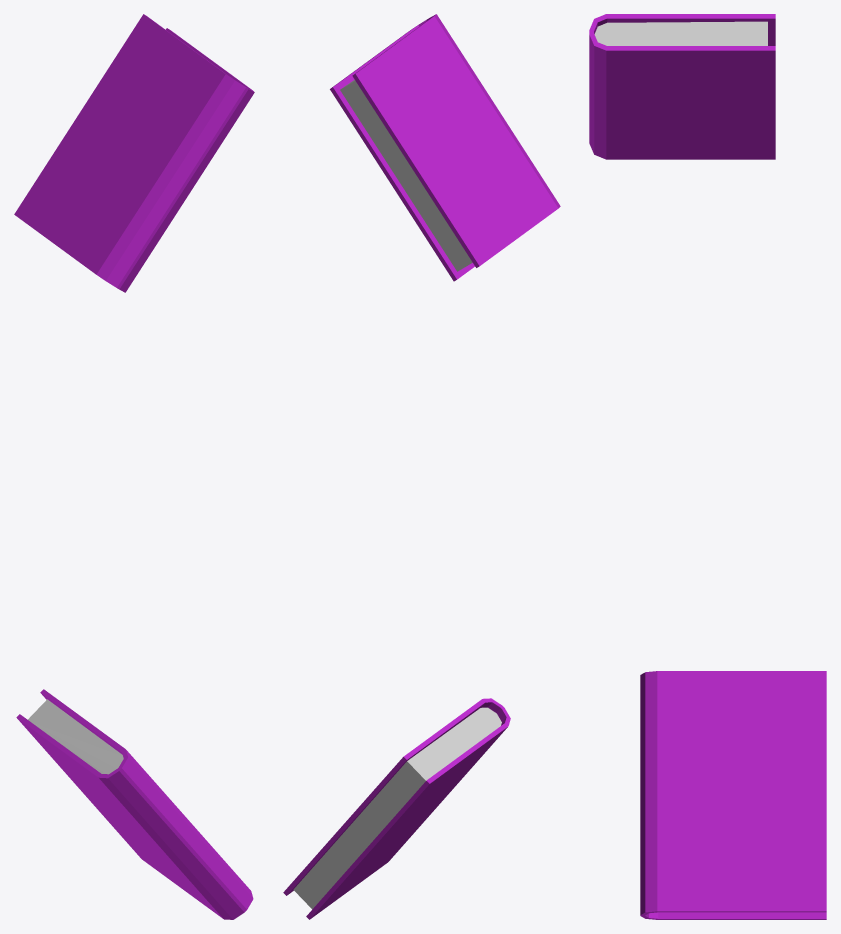
File: room_escape_new_zise.obj
3 views of the same model, side by side, from view 1: azimuth 30°, elevation 25°; view 2: azimuth 150°, elevation 25°; view 3: azimuth 270°, elevation 25° (orthographic). The views are drawn at different scales.
Visible parts, largest first — view 1: Cube.024_perpul_book, Cube.013_perpul_book, Cube.013_white_paper; view 2: Cube.024_perpul_book, Cube.013_white_paper, Cube.013_perpul_book, Cube.024_white_paper; view 3: Cube.013_perpul_book, Cube.024_perpul_book, Cube.024_white_paper.
Part boxes in pixels (<box>): Cube.024_perpul_book: <box>14,14,254,292</box>; Cube.013_perpul_book: <box>16,689,253,919</box>; Cube.013_white_paper: <box>28,699,123,774</box>; Cube.024_perpul_book: <box>330,14,560,281</box>; Cube.013_white_paper: <box>293,707,501,909</box>; Cube.013_perpul_book: <box>283,698,510,919</box>; Cube.024_white_paper: <box>340,79,472,271</box>; Cube.013_perpul_book: <box>640,671,826,919</box>; Cube.024_perpul_book: <box>589,14,775,159</box>; Cube.024_white_paper: <box>594,21,767,45</box>.
Size of the model in its own units: 0.2639 by 1.22 by 0.2934.
